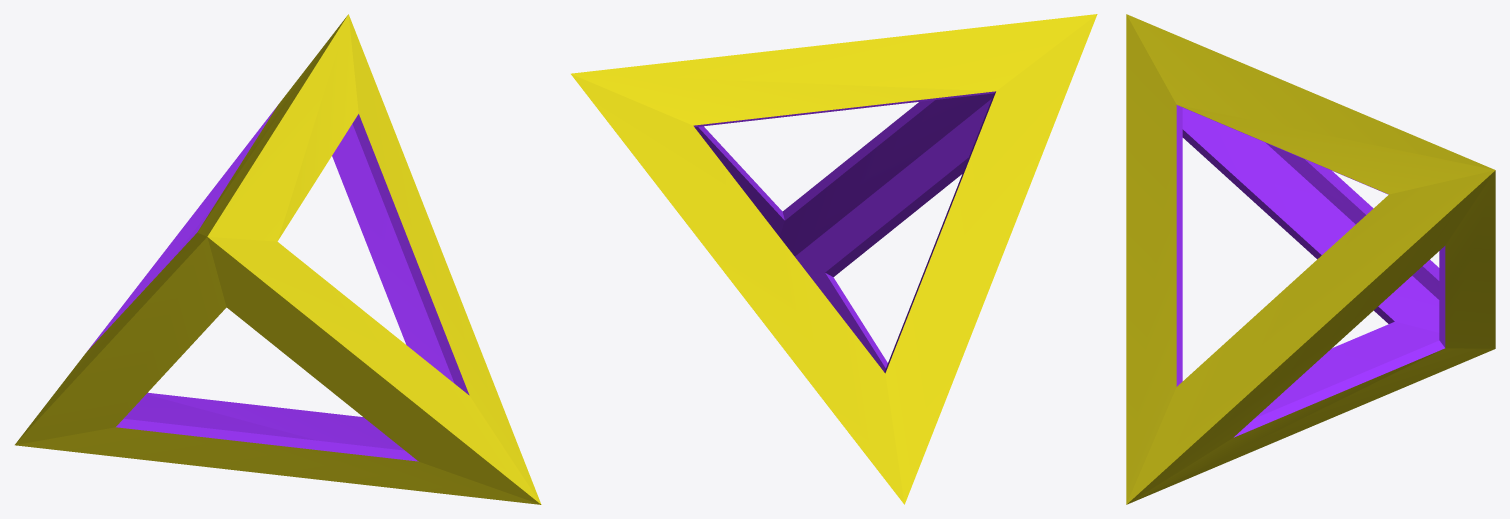
Rendered from TetrahedronS1.glb.
The picture shows the model from 3 angles, left to right: view 1: azimuth 30°, elevation 25°; view 2: azimuth 150°, elevation 25°; view 3: azimuth 270°, elevation 25°; orthographic projection. The views are drawn at different scales.
Parts seen in each view (by area): view 1: Mesh_0001_1, Mesh_0001; view 2: Mesh_0001_1, Mesh_0001; view 3: Mesh_0001_1, Mesh_0001.
Boxes of the visible parts, x1,y1,x2,y2 form: Mesh_0001_1: (15, 14, 541, 504); Mesh_0001: (88, 107, 469, 461); Mesh_0001_1: (571, 14, 1097, 504); Mesh_0001: (693, 91, 995, 373); Mesh_0001_1: (1126, 14, 1495, 504); Mesh_0001: (1176, 105, 1445, 437).
Bounding box in the file's own units: 0.7186 × 0.7186 × 0.7186.
